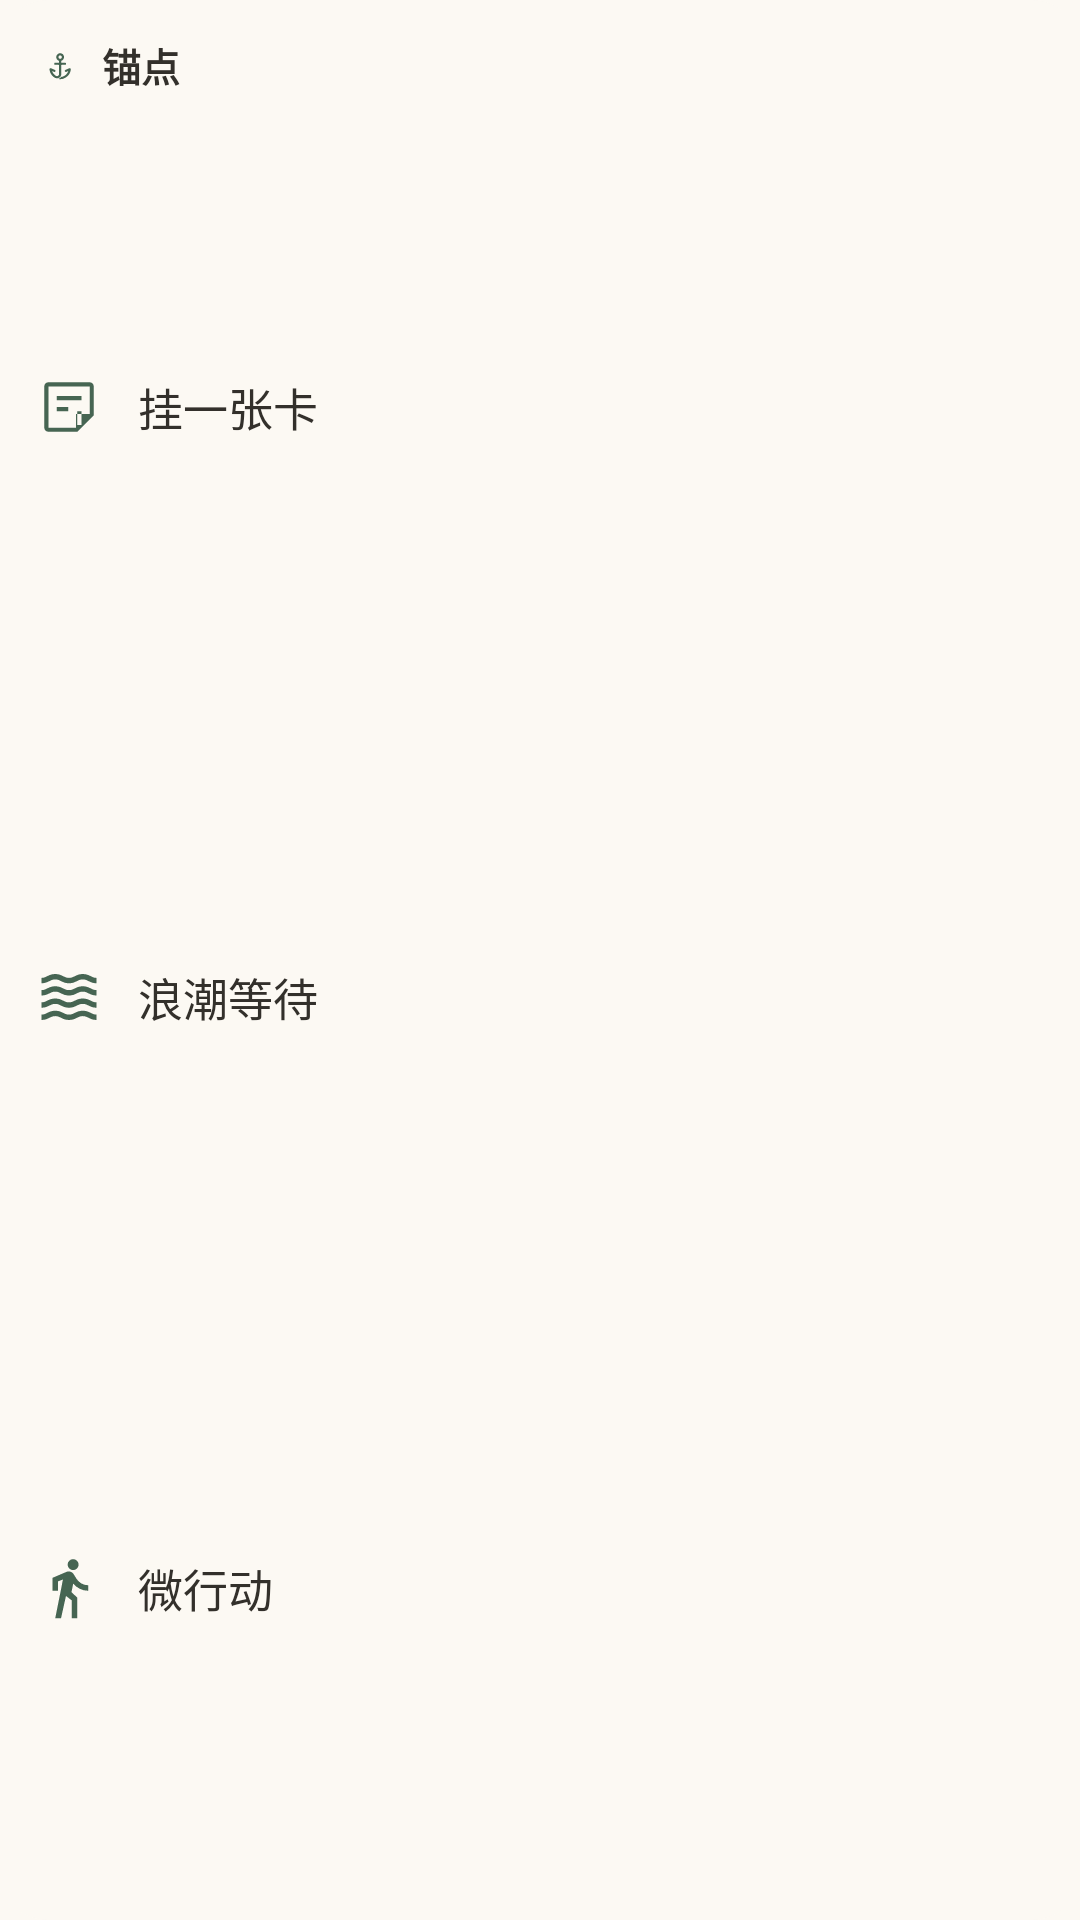

Where icons sit on this 1080px×1920px app screen, as (x1, y1, x2, y2):
widget anchor: (49, 53, 71, 80)
